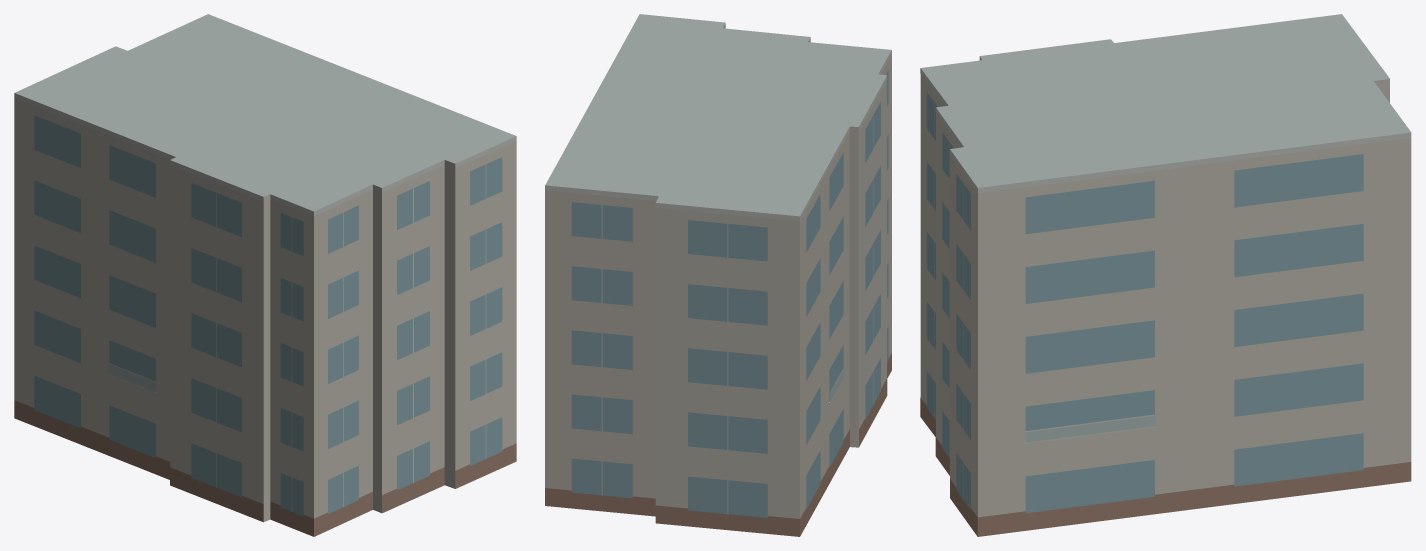
File: survey-upis-32919625.glb
The picture shows the model from 3 angles, left to right: view 1: azimuth 30°, elevation 25°; view 2: azimuth 150°, elevation 25°; view 3: azimuth 270°, elevation 25°; orthographic projection. The views are drawn at different scales.
Parts seen in each view (by area): view 1: survey-upis-32919625.tmp; view 2: survey-upis-32919625.tmp; view 3: survey-upis-32919625.tmp.
Boxes of the visible parts, x1,y1,x2,y2 form: survey-upis-32919625.tmp: [14, 14, 516, 536]; survey-upis-32919625.tmp: [545, 14, 891, 536]; survey-upis-32919625.tmp: [920, 14, 1411, 536].
Size of the model in its own units: 16.75 by 15.65 by 19.97.
